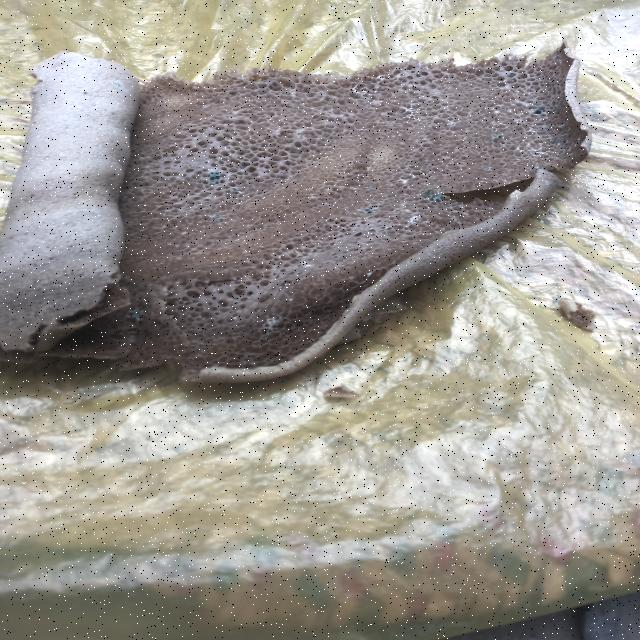injera_mold: (349, 75, 388, 96), (517, 140, 546, 163), (259, 314, 283, 336), (418, 186, 448, 203), (121, 306, 149, 324), (396, 104, 422, 121), (405, 214, 423, 226), (208, 170, 224, 182), (212, 212, 225, 224), (531, 106, 546, 115), (490, 133, 504, 142), (227, 187, 243, 194), (548, 136, 562, 144), (364, 206, 374, 216), (113, 81, 123, 88), (364, 271, 374, 278), (537, 124, 548, 130), (304, 263, 314, 269), (485, 166, 493, 172), (401, 178, 408, 184), (508, 71, 516, 76), (552, 54, 560, 59), (558, 123, 565, 128), (365, 186, 373, 190), (494, 110, 501, 114), (558, 60, 564, 64), (576, 138, 581, 141)
